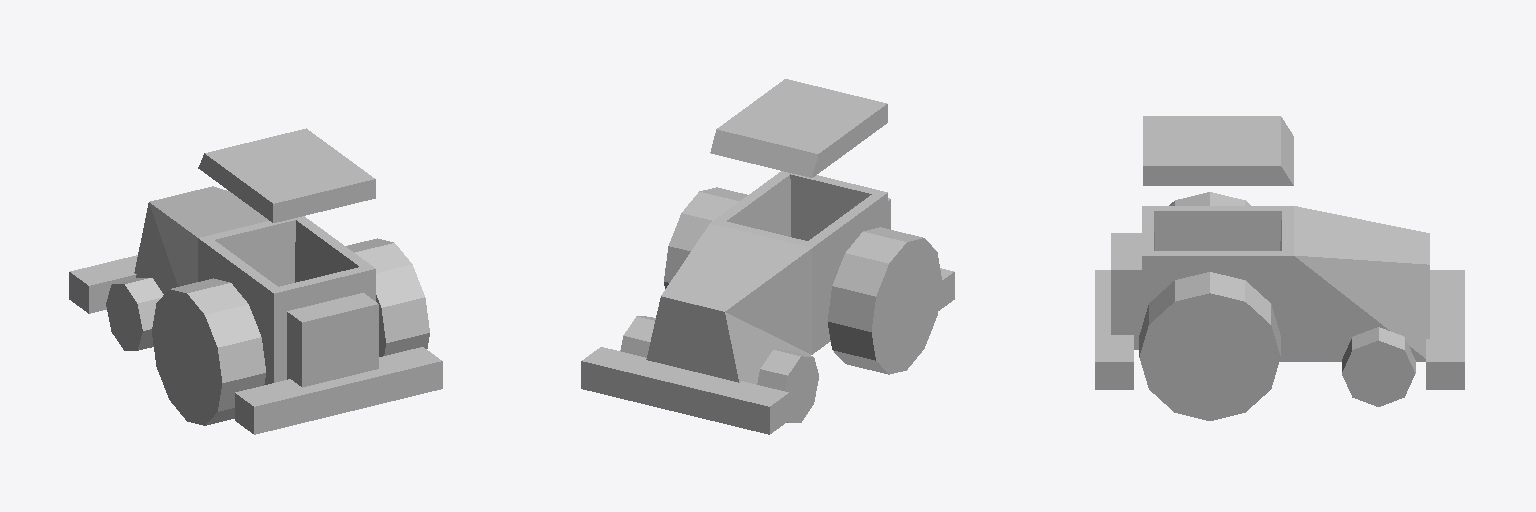
File: tractor.obj
3 renders of one model, left to right at view 1: azimuth 30°, elevation 25°; view 2: azimuth 150°, elevation 25°; view 3: azimuth 270°, elevation 25°, orthographic.
Parts seen in each view (by area): view 1: Cube, 柱体.001, 立方体.001, 立方体.002, 立方体.003, 柱体, 立方体; view 2: Cube, 柱体.001, 立方体.001, 立方体, 柱体; view 3: Cube, 柱体.001, 立方体.001, 柱体, 立方体, 立方体.003, 立方体.002.
Boxes of the visible parts, box(x1,y1,x2,y2) form: Cube: box(134, 186, 375, 384); 柱体.001: box(152, 238, 429, 425); 立方体.001: box(198, 128, 375, 222); 立方体.002: box(235, 347, 442, 434); 立方体.003: box(287, 293, 378, 387); 柱体: box(106, 278, 163, 350); 立方体: box(69, 255, 137, 313); Cube: box(646, 171, 887, 384); 柱体.001: box(664, 187, 941, 374); 立方体.001: box(710, 79, 887, 177); 立方体: box(581, 347, 788, 434); 柱体: box(620, 316, 818, 422); Cube: box(1142, 206, 1429, 361); 柱体.001: box(1139, 192, 1280, 420); 立方体.001: box(1143, 116, 1293, 185); 柱体: box(1342, 327, 1415, 406); 立方体: box(1426, 270, 1464, 389); 立方体.003: box(1111, 233, 1141, 349); 立方体.002: box(1095, 270, 1133, 389).
Size of the model in its own units: 4.07 by 4.29 by 6.27.